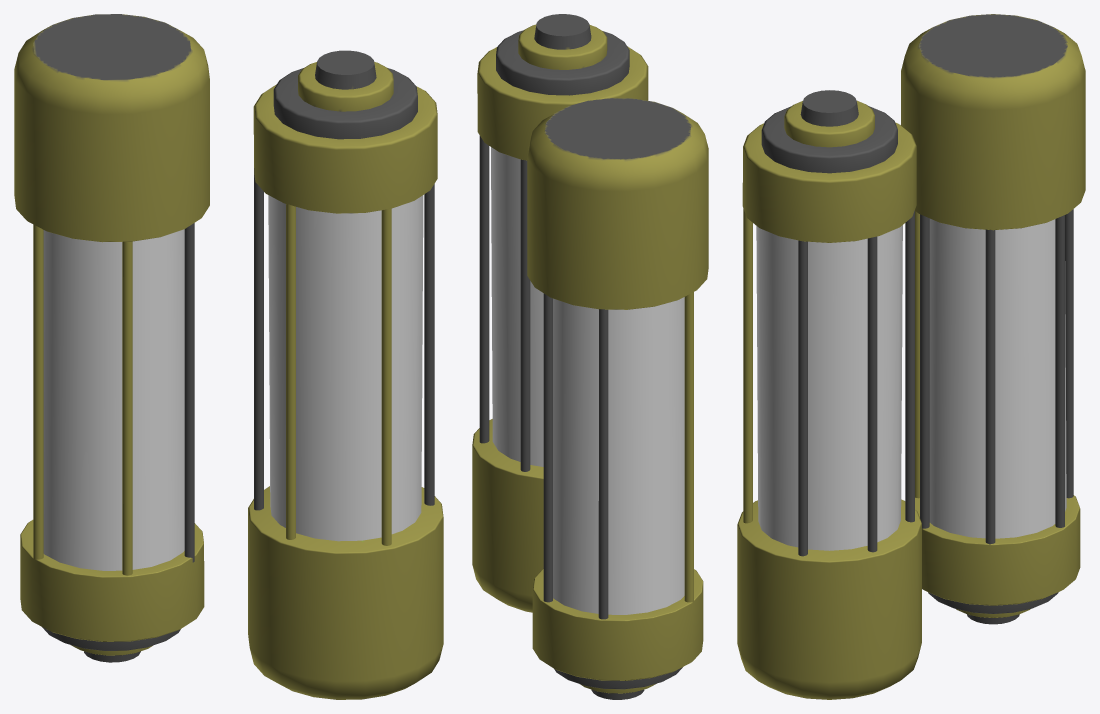
The model's file is Batery2.fbx.
3 renders of one model, left to right at view 1: azimuth 30°, elevation 25°; view 2: azimuth 150°, elevation 25°; view 3: azimuth 270°, elevation 25°, orthographic. The views are drawn at different scales.
Parts seen in each view (by area): view 1: Battery_2.001, Battery_1; view 2: Battery_1, Battery_2.001; view 3: Battery_2.001, Battery_1.
Part boxes in pixels (<box>): Battery_2.001: <box>248,50,443,699</box>; Battery_1: <box>14,14,209,662</box>; Battery_1: <box>527,98,708,699</box>; Battery_2.001: <box>472,14,648,612</box>; Battery_2.001: <box>737,90,921,699</box>; Battery_1: <box>901,14,1085,624</box>.
Bounding box in the file's own units: 76.13 × 141 × 77.16.
